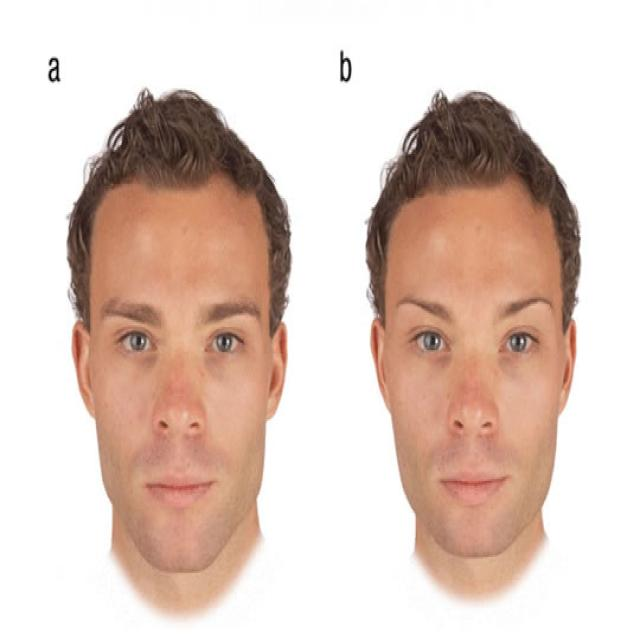front: (89, 274, 272, 553), (385, 268, 556, 544)
